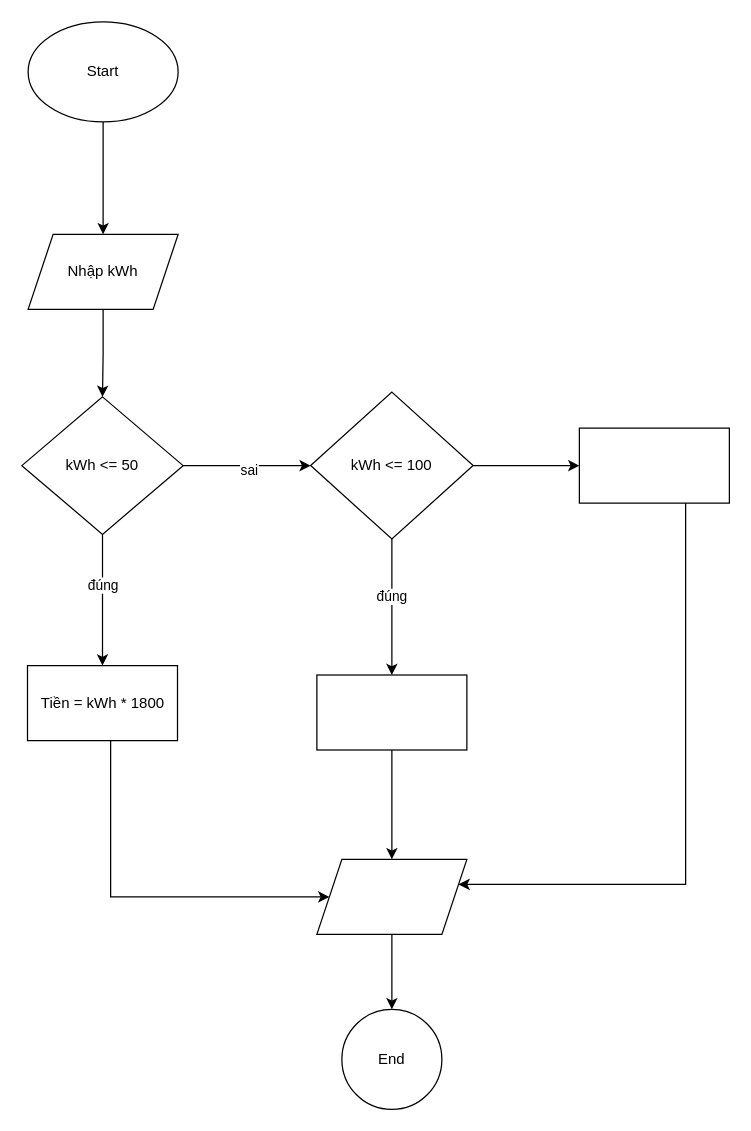
The diagram is 751 pixels wide and 1131 high, and some of its shapes have lost their labels. The centre of each missing label's shape, as x and y in pixels:
Tiền = kWh * 2000: the point at 391,712
Tiền = kWh * 2500: the point at 653,465
Xuất tiền phải trả: the point at 391,896
